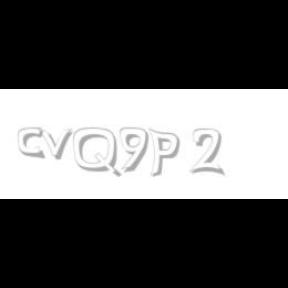2: (189, 128, 223, 176)
9: (120, 128, 148, 172)
P: (148, 128, 180, 178)
Q: (73, 128, 119, 178)
c: (17, 128, 46, 160)
v: (36, 128, 76, 160)
